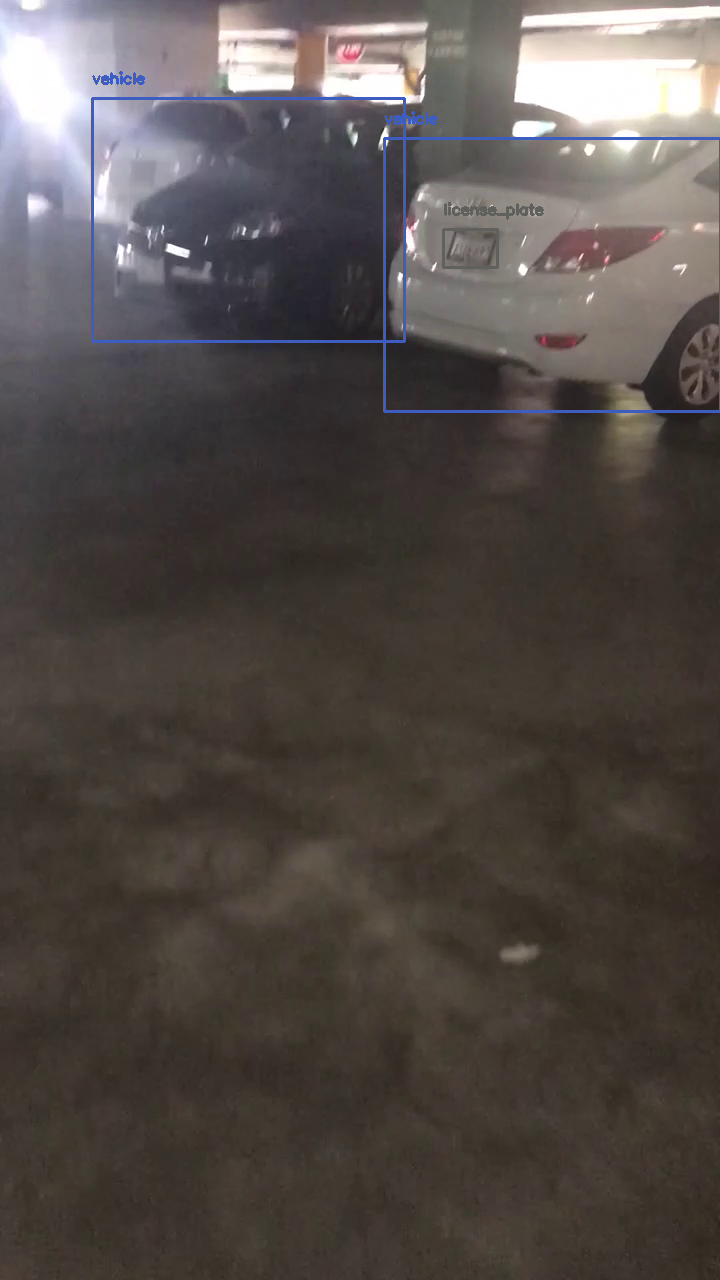license_plate: (443, 229, 497, 267)
vehicle: (384, 138, 720, 411), (92, 98, 404, 341)
